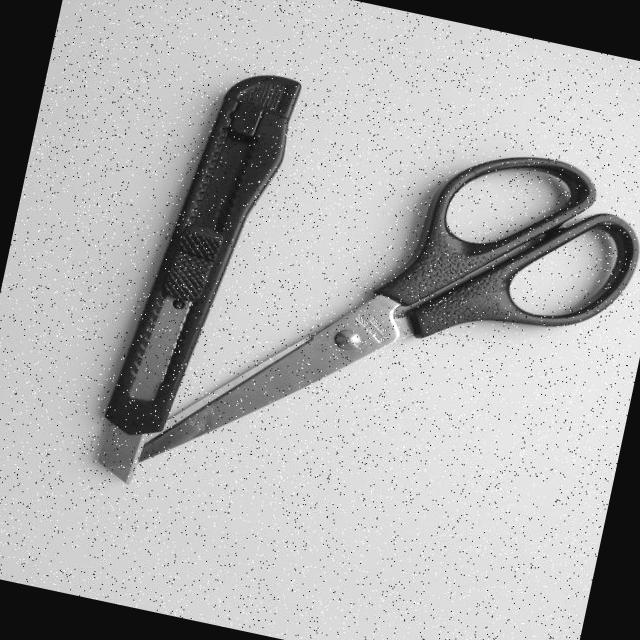scissors: (119, 152, 640, 476)
